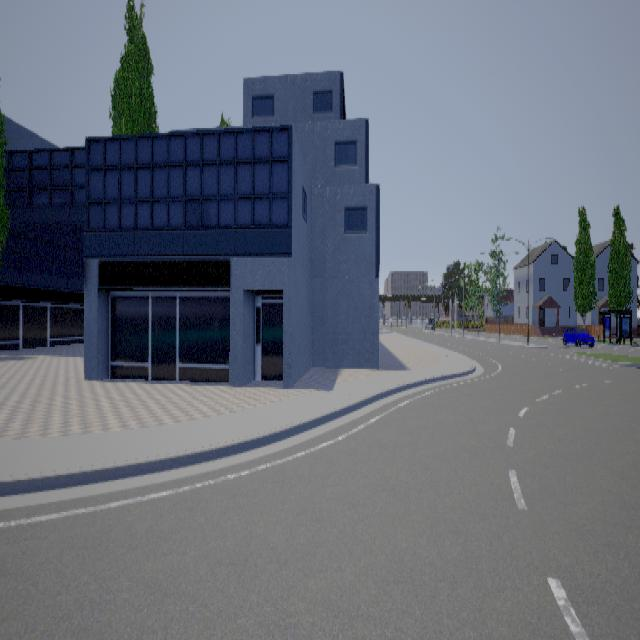vehicle: (564, 327, 596, 347)
